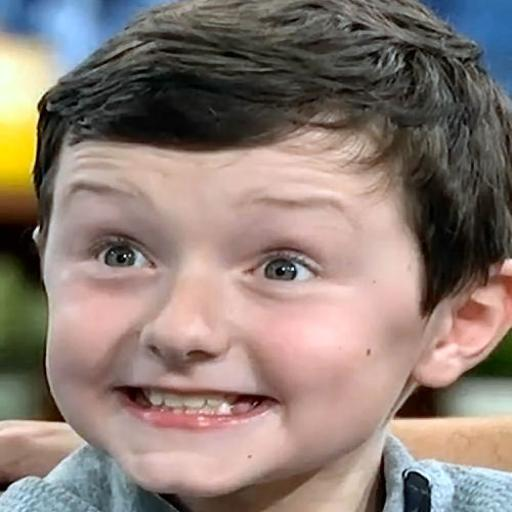Autism: (26, 9, 512, 512)
